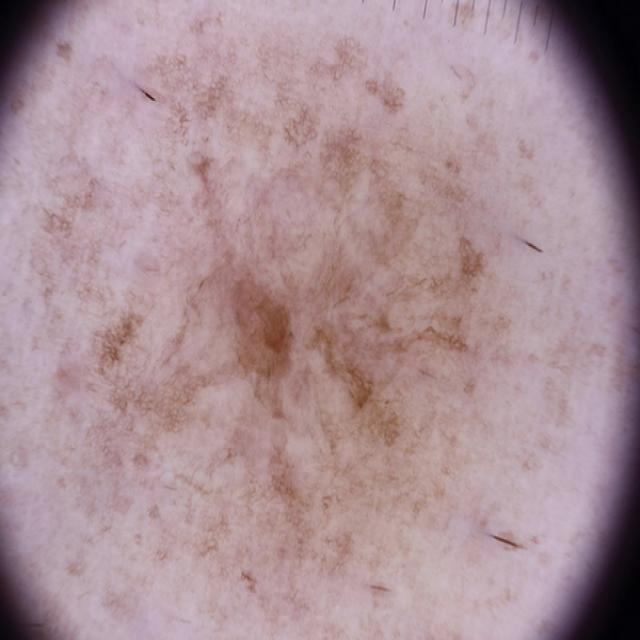Skin-Cancer Pigmented benign keratosis: (16, 3, 615, 632)
